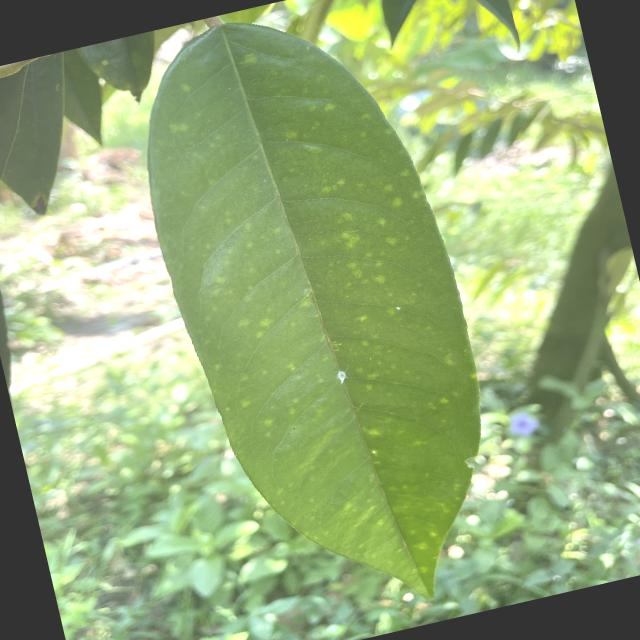Leaf Spot: (110, 0, 535, 639)
